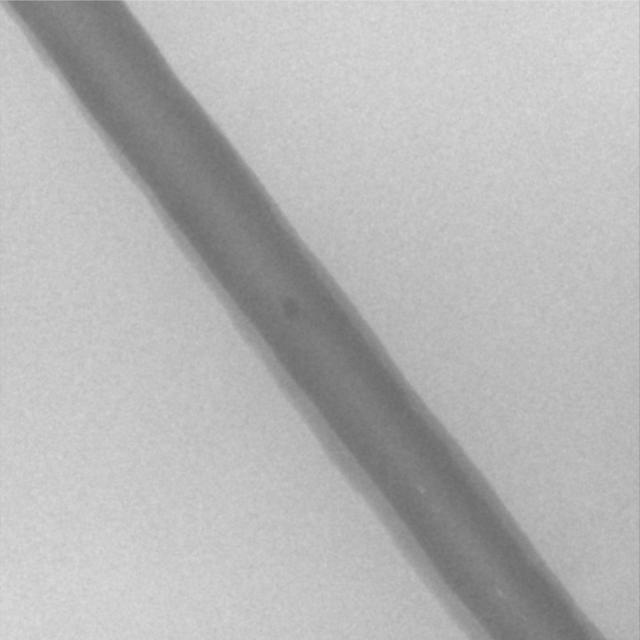air hole: (415, 483, 425, 494), (495, 588, 504, 597)
